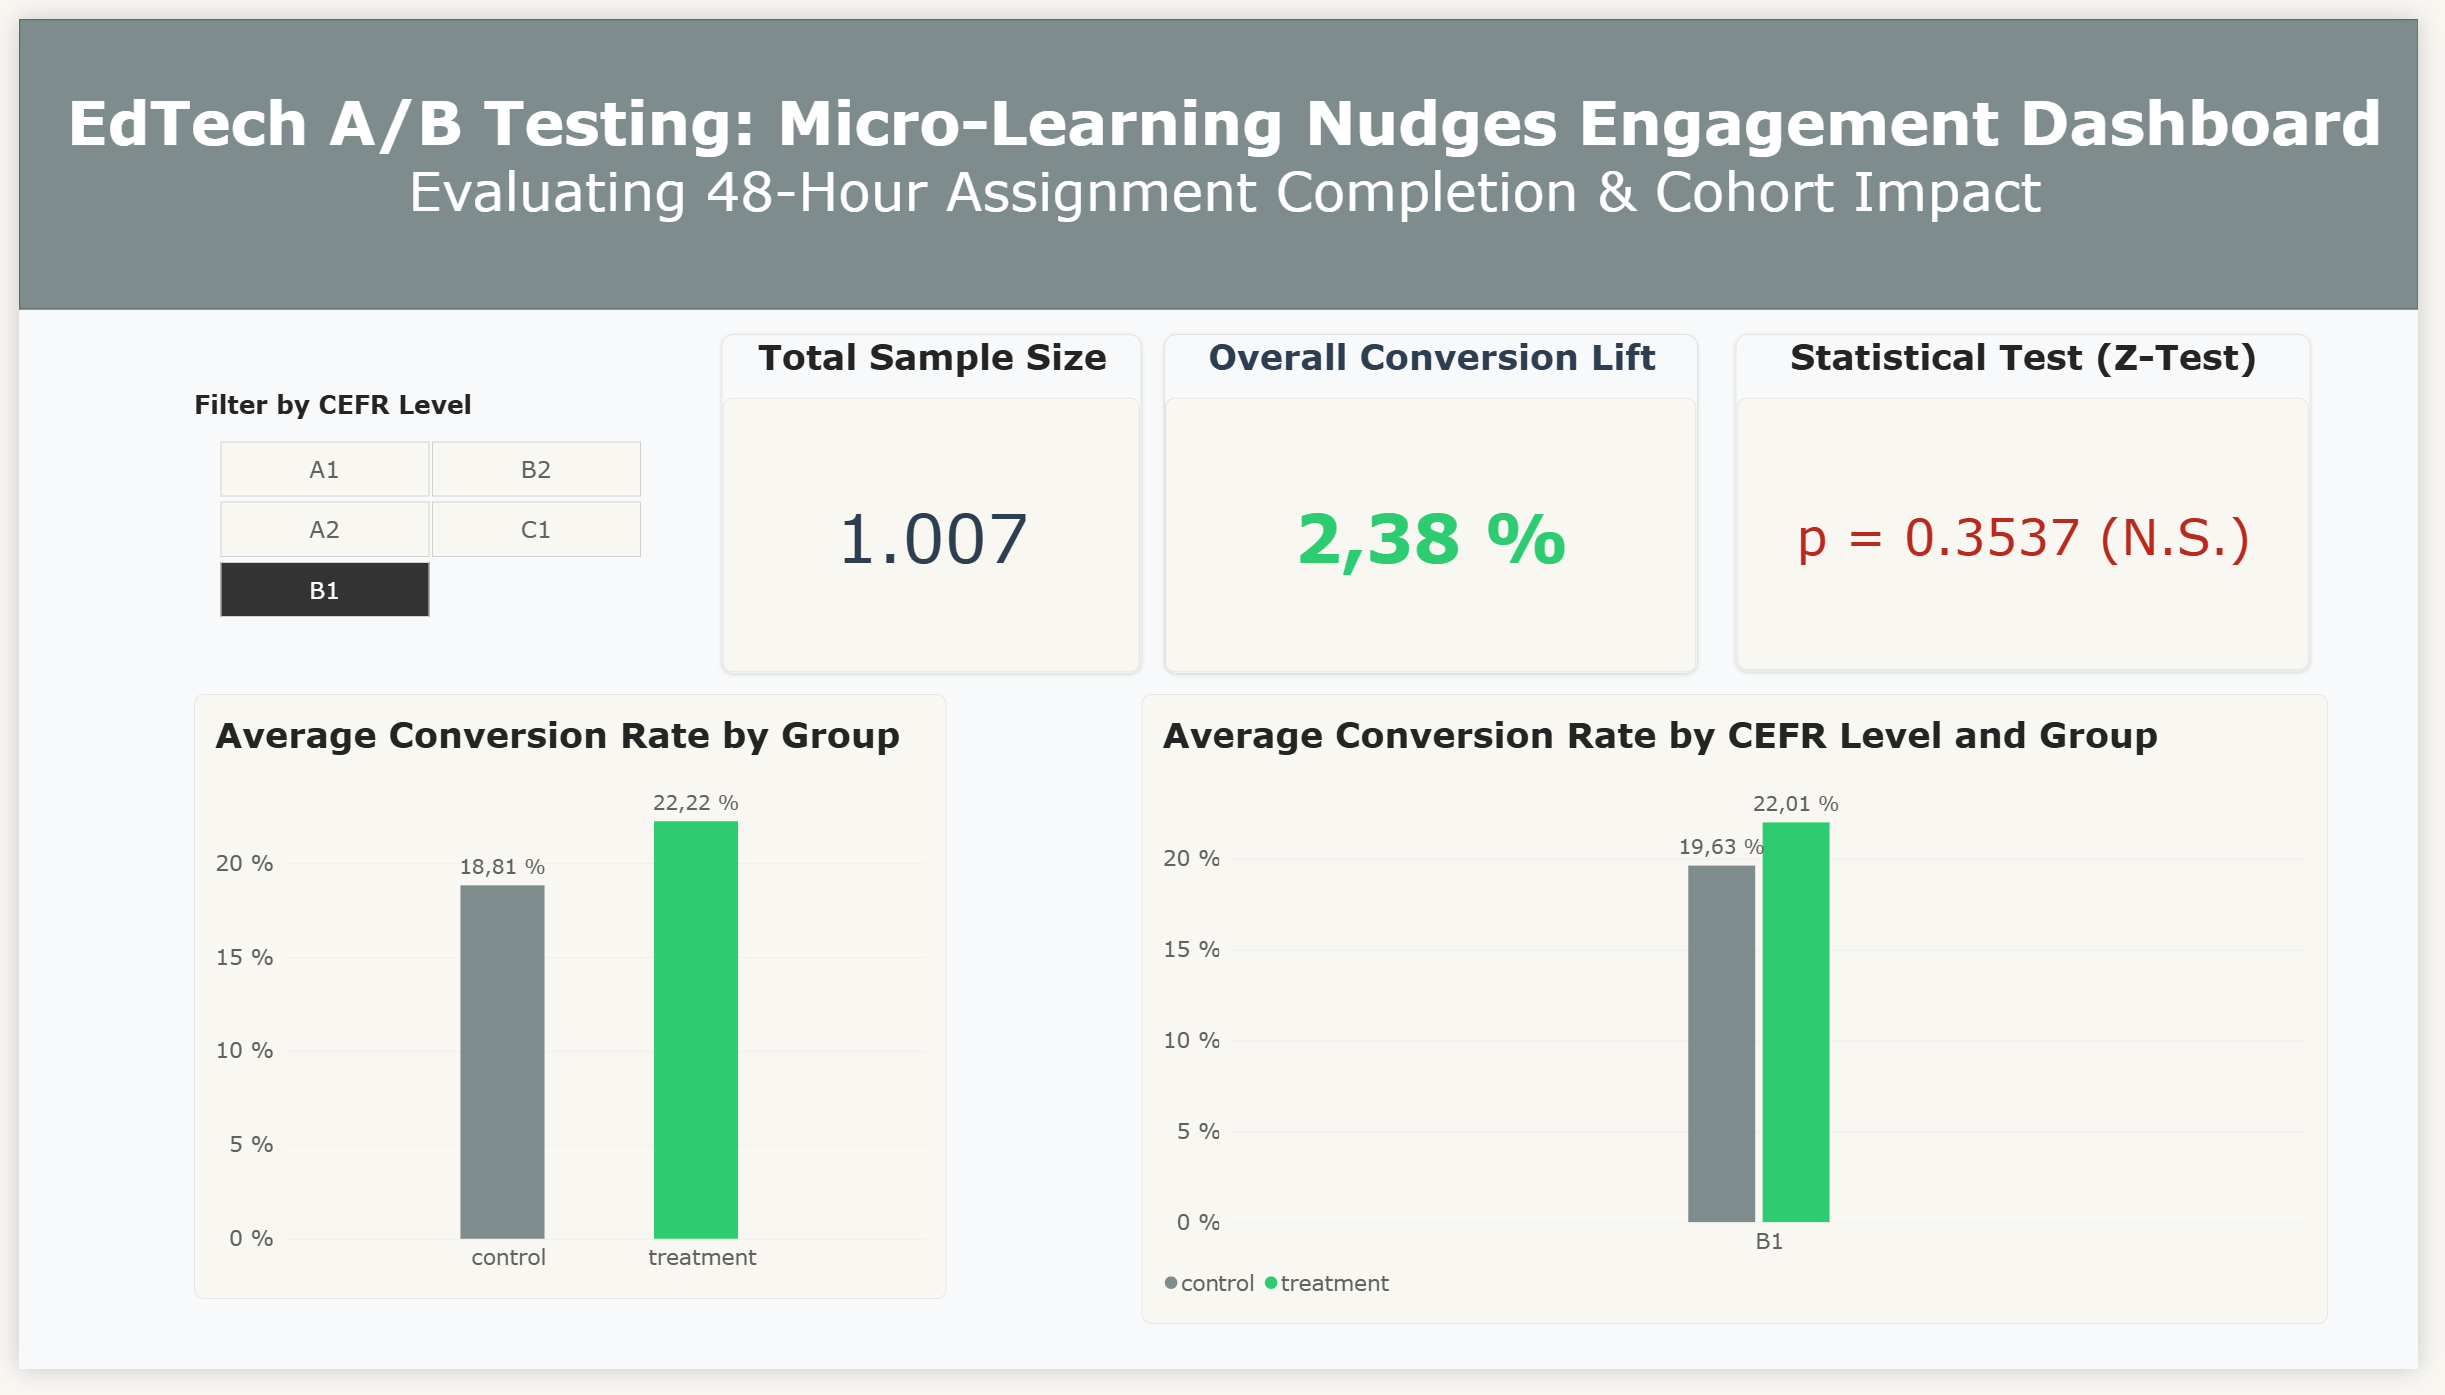

The page's visual inventory and layout, read from the dashboard file:
{"tool":"powerbi","page":{"name":"Page 1","canvas":[1920,1080],"ordinal":0},"visuals":[{"type":"shape","box":[0,0,1920.4,232.6],"z":0},{"type":"textbox","box":[10.3,51.5,1910.1,150.3],"z":1000},{"type":"cardVisual","title":"Total Sample Size","fields":{"Data":["Sum(powerbi_ab_test_summary (3).total_students)"]},"box":[562,252,336,272],"z":2000},{"type":"cardVisual","title":"Overall Conversion Lift","fields":{"Data":["powerbi_ab_test_summary (3).Conversion Lift1"]},"box":[916,252,428,272],"z":3000},{"type":"cardVisual","title":"Statistical Test (Z-Test)","fields":{"Data":["powerbi_ab_test_summary.p_value_display"]},"box":[1374,252,460,270],"z":4000},{"type":"clusteredColumnChart","title":"Average Conversion Rate by Group","fields":{"Category":["powerbi_ab_test_summary (3).group"],"Y":["Avg(powerbi_ab_test_summary (3).conversion_rate)"]},"box":[140,540,602,484],"z":5000},{"type":"clusteredColumnChart","title":"Average Conversion Rate by CEFR Level and Group","fields":{"Category":["powerbi_ab_test_summary (3).cefr_level"],"Series":["powerbi_ab_test_summary (3).group"],"Y":["Avg(powerbi_ab_test_summary (3).conversion_rate)"]},"box":[898,540,950,504],"z":6000},{"type":"slicer","title":"Filter by CEFR Level","fields":{"Values":["powerbi_ab_test_summary (3).cefr_level"]},"box":[140,296,376.4,184.6],"z":7000}]}

Visuals, with their boxes in screenshot pixels (x1, y1, x2, y2), scaled from the page's 1920x1080 canvas onto the 2445x1395 screenshot:
shape: left=0, top=0, right=2444, bottom=300
textbox: left=13, top=67, right=2444, bottom=261
"Total Sample Size" cardVisual: left=716, top=326, right=1144, bottom=677
"Overall Conversion Lift" cardVisual: left=1166, top=326, right=1712, bottom=677
"Statistical Test (Z-Test)" cardVisual: left=1750, top=326, right=2335, bottom=674
"Average Conversion Rate by Group" clusteredColumnChart: left=178, top=698, right=945, bottom=1323
"Average Conversion Rate by CEFR Level and Group" clusteredColumnChart: left=1144, top=698, right=2353, bottom=1348
"Filter by CEFR Level" slicer: left=178, top=382, right=658, bottom=621
